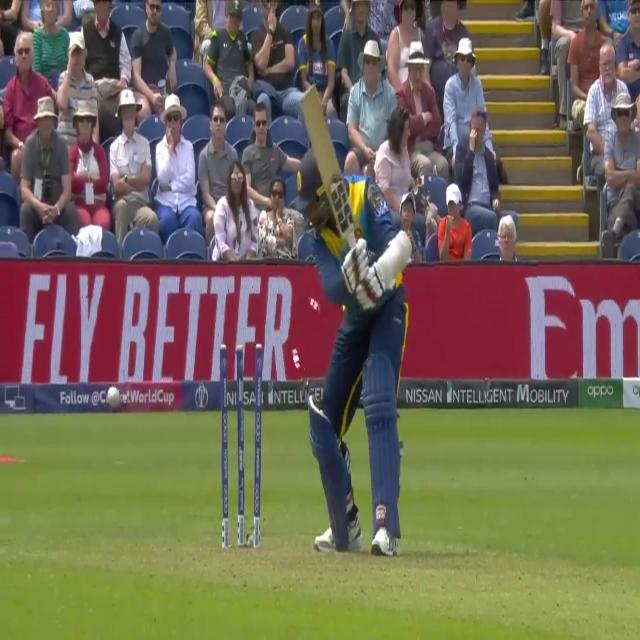ball: (105, 384, 123, 411)
